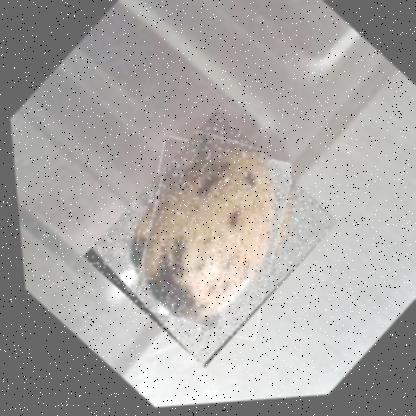mango_rotten: (66, 106, 342, 377)
